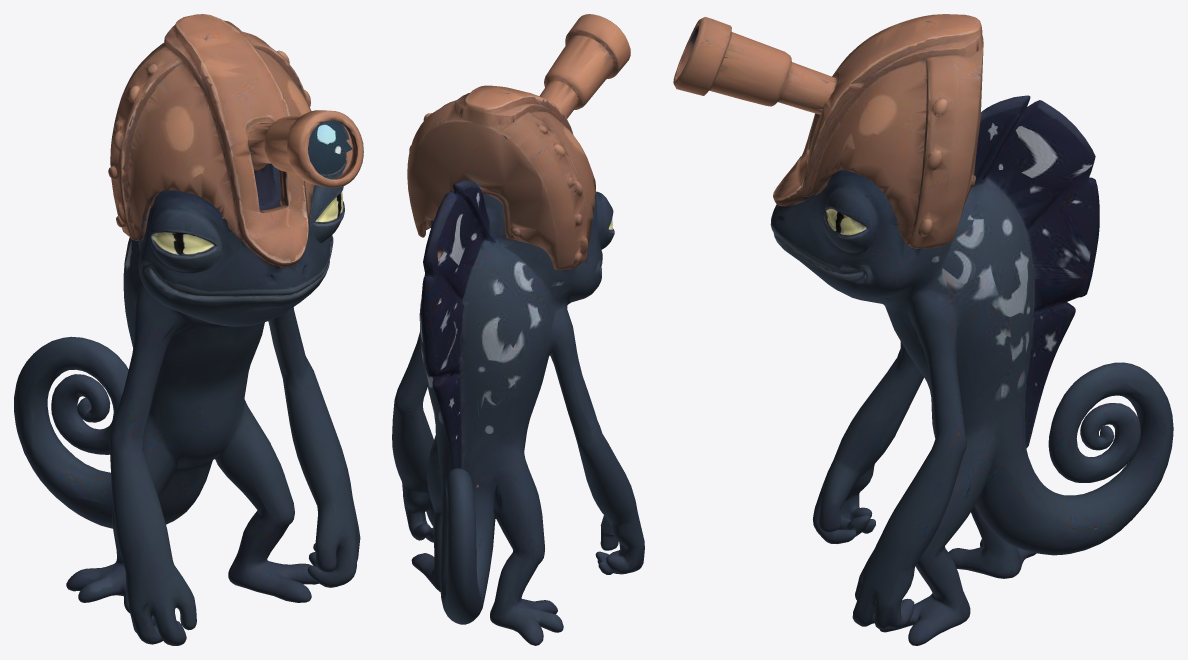
3 views of the same model, side by side, from view 1: azimuth 30°, elevation 25°; view 2: azimuth 150°, elevation 25°; view 3: azimuth 270°, elevation 25° (orthographic). The views are drawn at different scales.
Parts seen in each view (by area): view 1: Mesh_0; view 2: Mesh_0; view 3: Mesh_0.
Part boxes in pixels (x1,y1,x2,y2): Mesh_0: (14, 14, 363, 645); Mesh_0: (392, 14, 644, 645); Mesh_0: (673, 14, 1173, 645).
Bounding box in the file's own units: 0.8606 × 1.9 × 1.49.
1 material, 1 textured.
